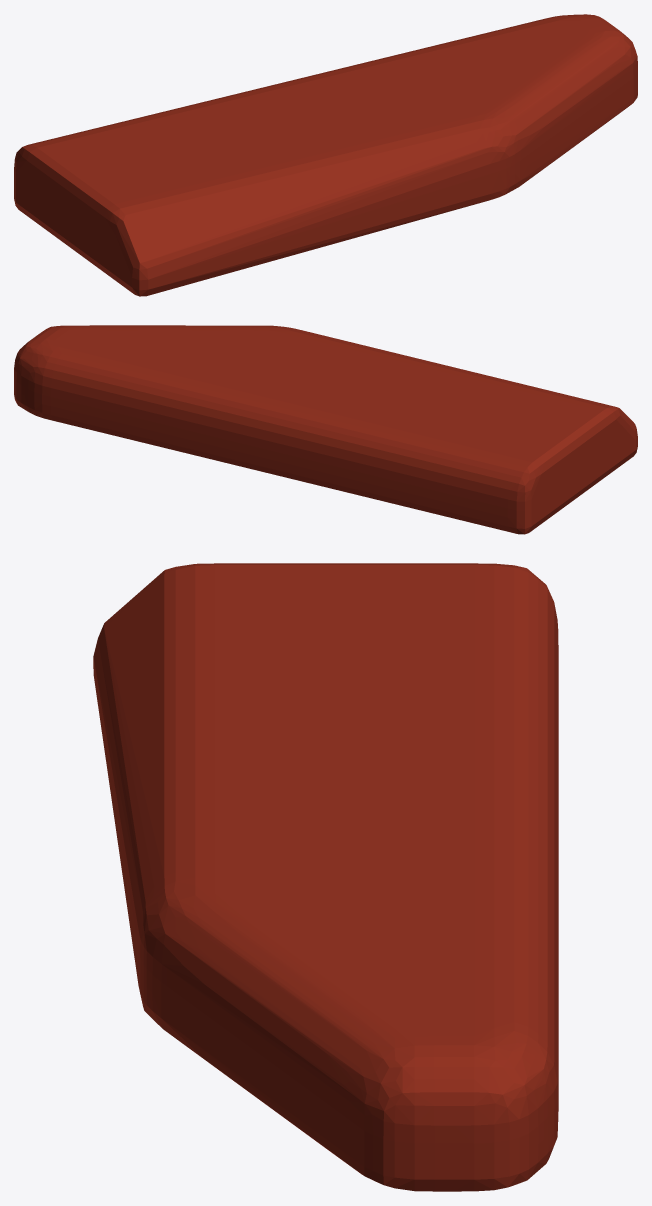
File: right_ankle_link_part_15.obj
3 views of the same model, one above another, from view 1: azimuth 30°, elevation 25°; view 2: azimuth 150°, elevation 25°; view 3: azimuth 270°, elevation 25° (orthographic). The views are drawn at different scales.
Size of the model in its own units: 0.0764 by 0.00887 by 0.0292.
